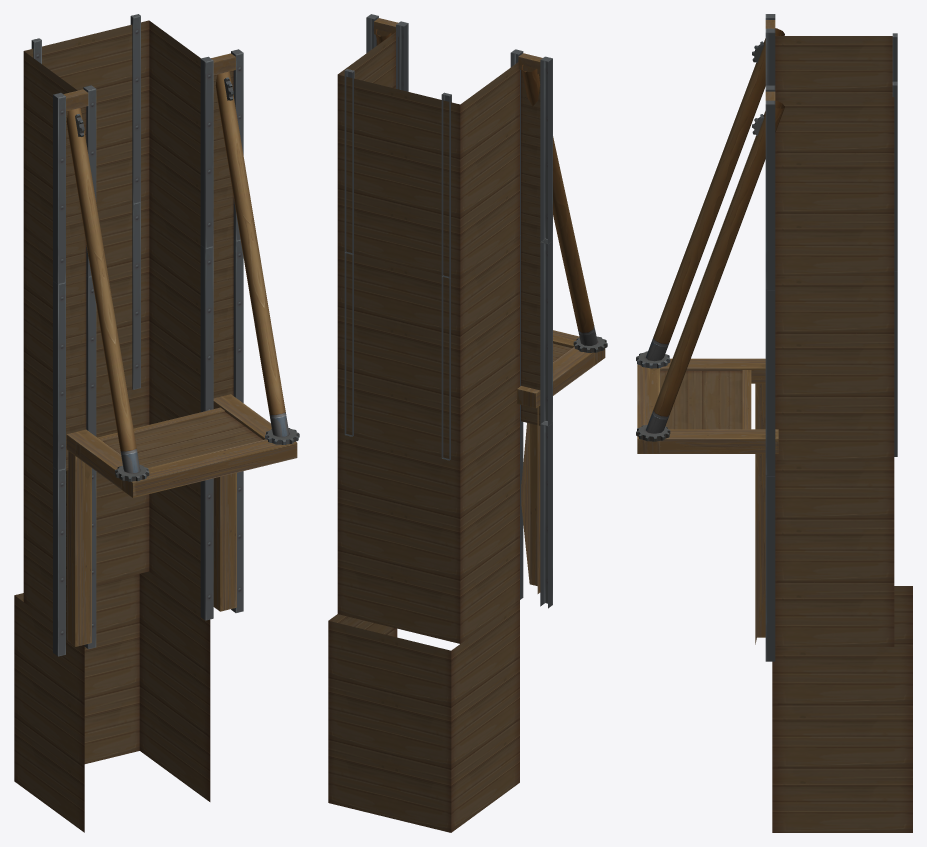
The model's file is SM_ZSJ_dianti002.FBX.
The picture shows the model from 3 angles, left to right: view 1: azimuth 30°, elevation 25°; view 2: azimuth 150°, elevation 25°; view 3: azimuth 270°, elevation 25°; orthographic projection. The views are drawn at different scales.
Visible parts, largest first — view 1: SM_ZSJ_dianti002; view 2: SM_ZSJ_dianti002; view 3: SM_ZSJ_dianti002.
Part boxes in pixels (x1,y1,x2,y2): SM_ZSJ_dianti002: (14,14,299,832); SM_ZSJ_dianti002: (328,14,607,832); SM_ZSJ_dianti002: (636,14,912,832).
Size of the model in its own units: 504 by 1929 by 652.
